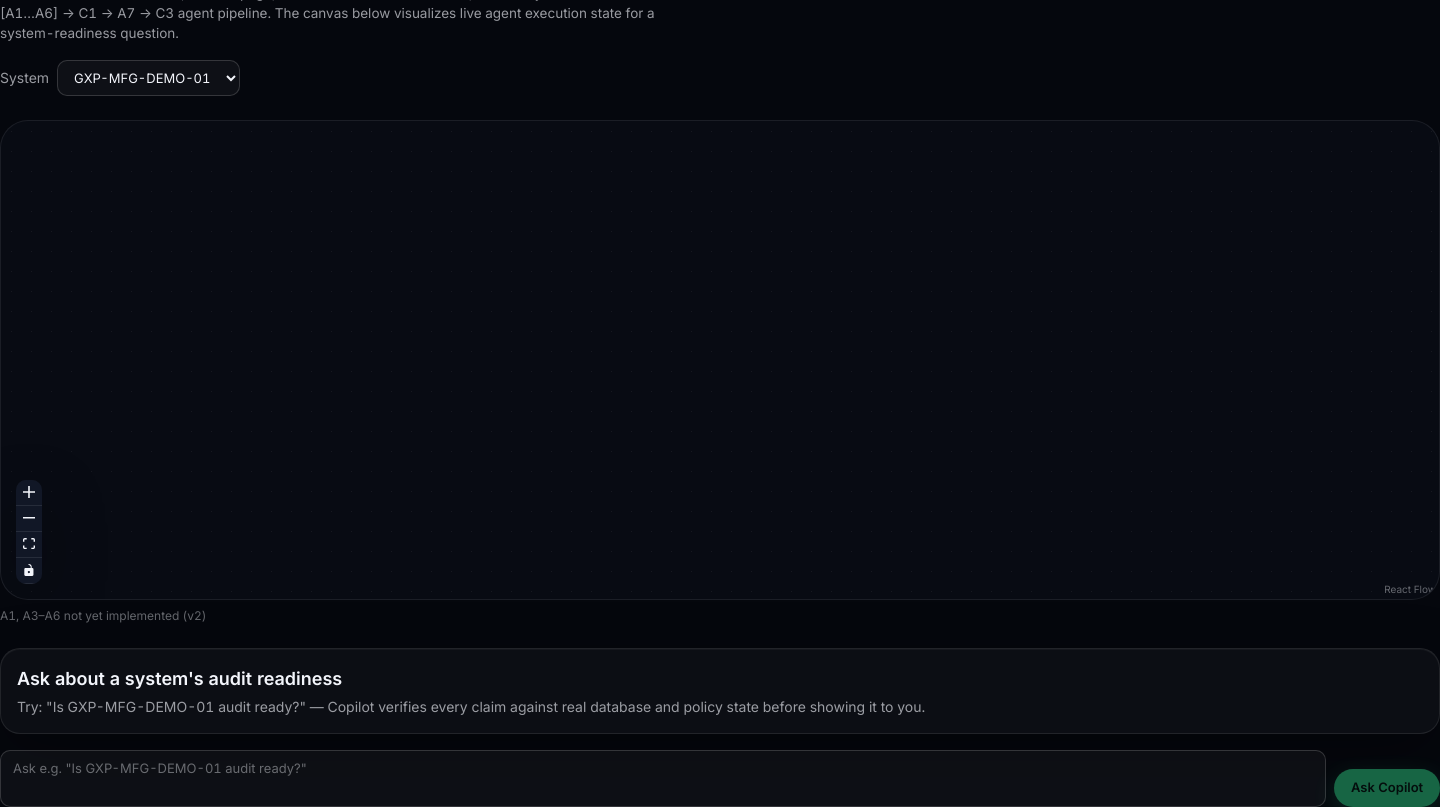
Test case: Copilot free-text investigation (plan 06.1-06, D-07: real investigateCopilot() call) › renders only the insufficient-evidence copy -- no answer, trace toggle, or full evidence list -- when insufficient_evidence is true
(page scrolled)
Type "what about an uncovered topic?" into the text box with placeholder "Ask e.g. \"Is GXP-MFG-DEMO-01 audit ready?\"" at point(663, 778), box [0,750,1326,806]
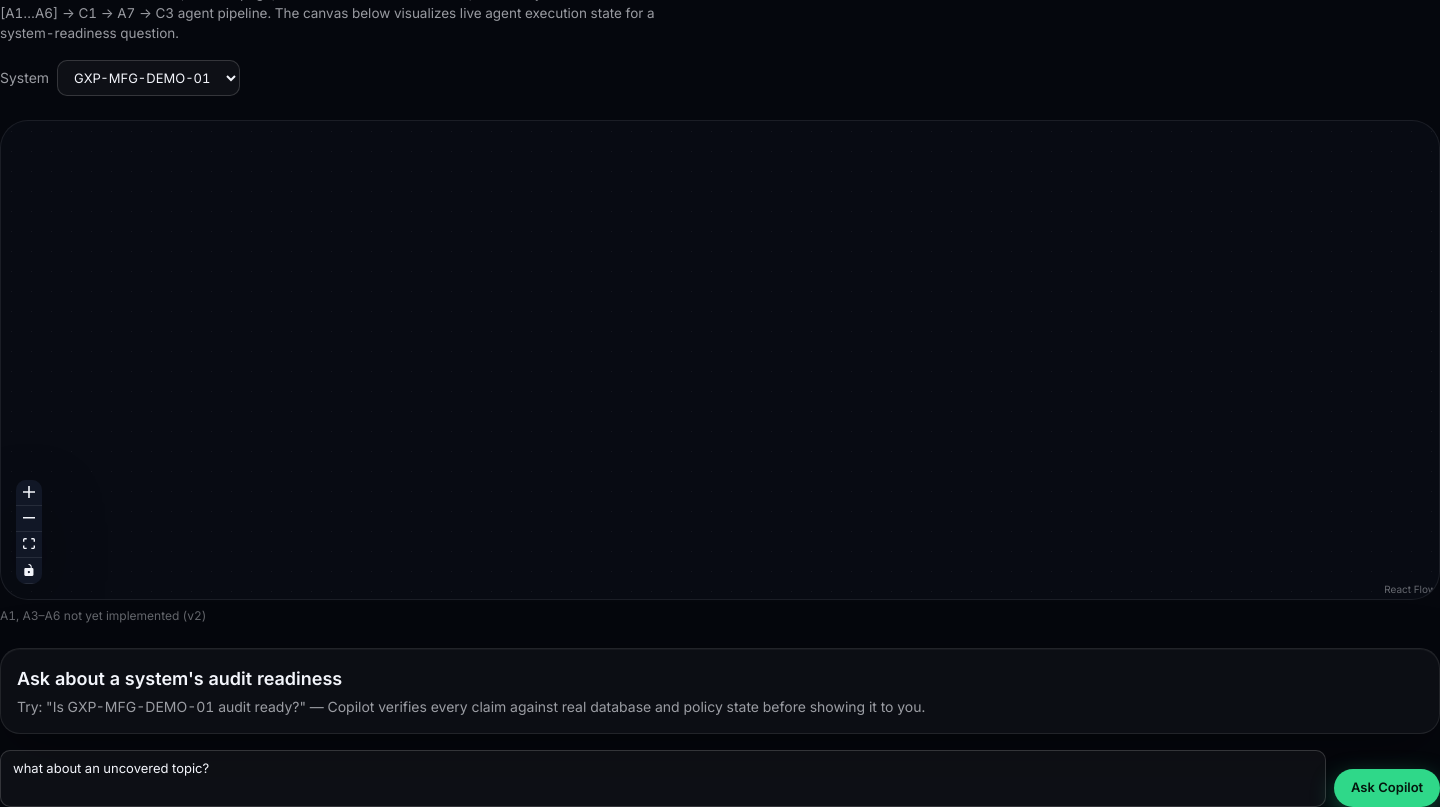
Click the button "Ask Copilot" at point(1387, 788), box [1334,769,1439,806]
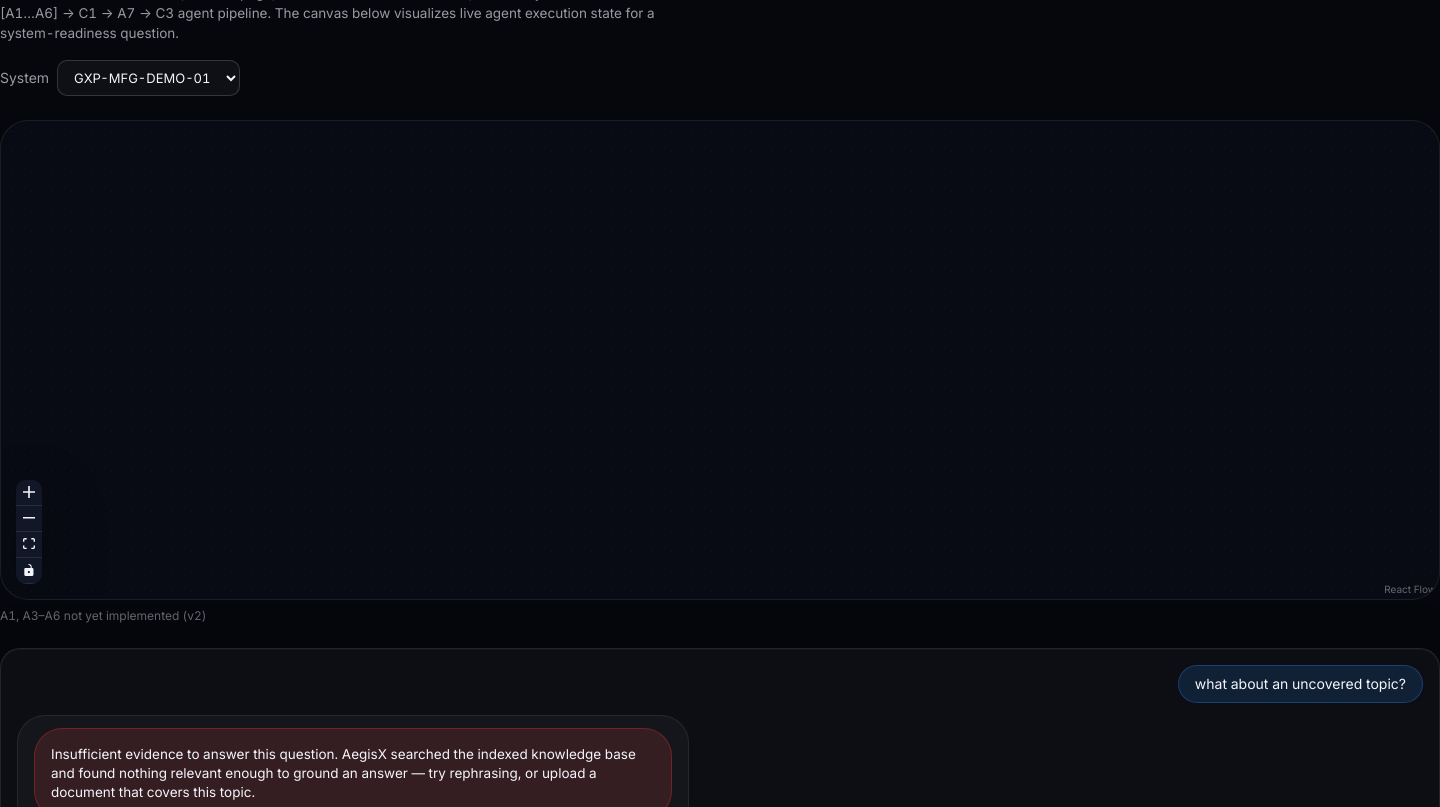
Expected: the text "Insufficient evidence to answer this question" is shown, [51,746,636,800]
